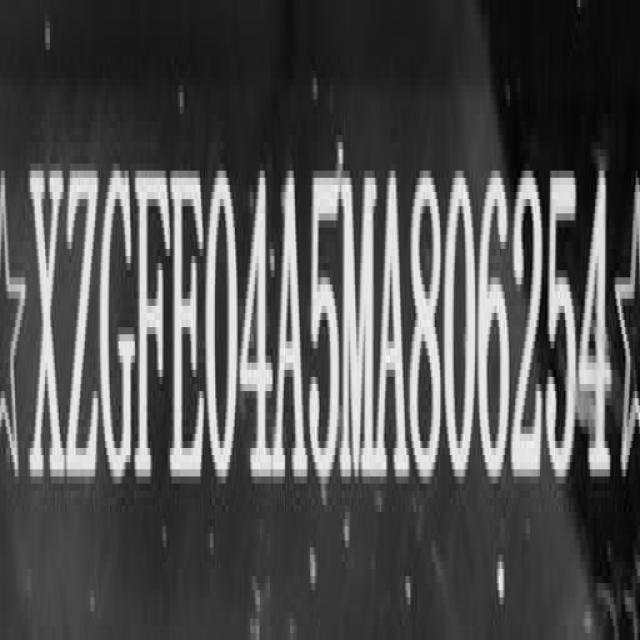0: (206, 158, 240, 493), (444, 162, 479, 487)
2: (512, 166, 548, 491)
4: (577, 152, 618, 488), (240, 162, 278, 492)
5: (310, 159, 344, 493), (550, 156, 582, 486)
6: (477, 162, 512, 490)
8: (409, 165, 444, 487)
A: (378, 164, 411, 490), (275, 161, 307, 492)
E: (172, 155, 207, 496)
F: (138, 151, 172, 498)
G: (103, 160, 139, 496)
M: (342, 161, 379, 492)
X: (32, 151, 66, 498)
Z: (66, 150, 100, 495)
